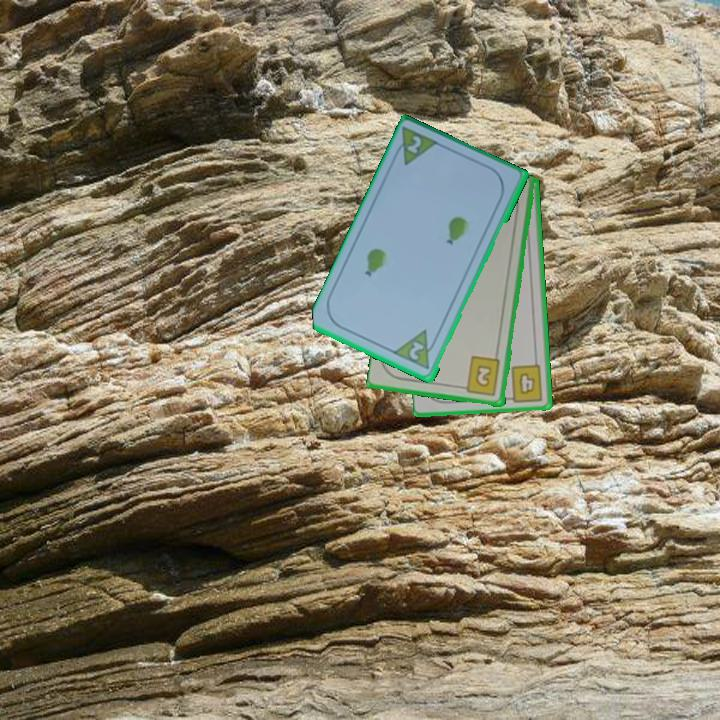2b: (457, 353, 503, 399)
2p: (403, 132, 425, 157), (406, 338, 427, 363)
4b: (503, 361, 545, 405)
